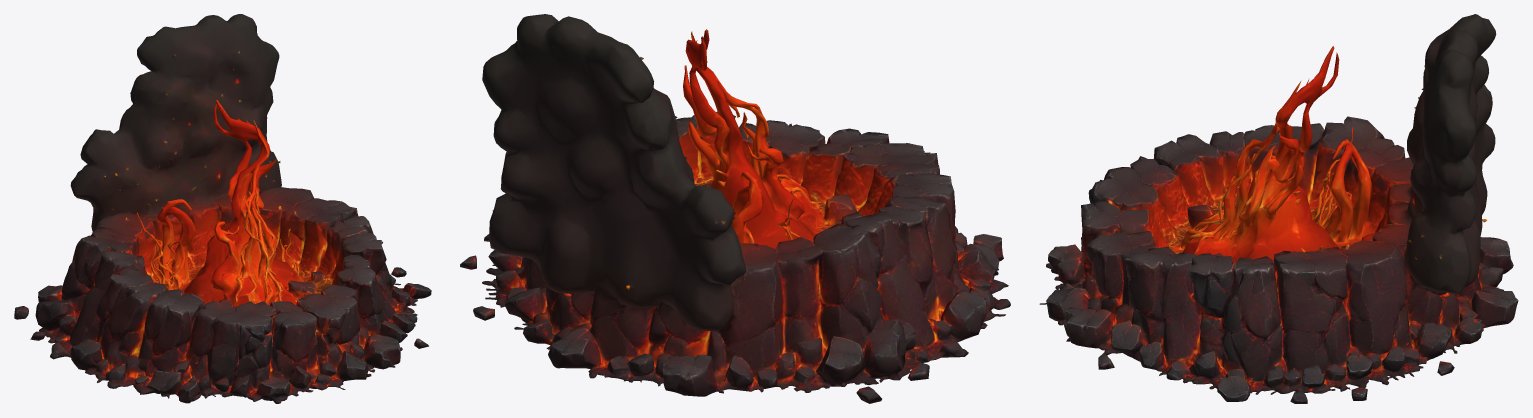
3 renders of one model, left to right at view 1: azimuth 30°, elevation 25°; view 2: azimuth 150°, elevation 25°; view 3: azimuth 270°, elevation 25°, orthographic. The views are drawn at different scales.
Parts seen in each view (by area): view 1: tripo_node_2ca262ef-e0d6-476b-8f13-4c4fdfd9efba; view 2: tripo_node_2ca262ef-e0d6-476b-8f13-4c4fdfd9efba; view 3: tripo_node_2ca262ef-e0d6-476b-8f13-4c4fdfd9efba.
Part boxes in pixels (left/top/right/bottom): tripo_node_2ca262ef-e0d6-476b-8f13-4c4fdfd9efba: left=14, top=14, right=431, bottom=403; tripo_node_2ca262ef-e0d6-476b-8f13-4c4fdfd9efba: left=460, top=14, right=1010, bottom=403; tripo_node_2ca262ef-e0d6-476b-8f13-4c4fdfd9efba: left=1039, top=14, right=1518, bottom=403.
Bounding box in the file's own units: 1 × 0.6556 × 0.9554.
1 material, 1 textured.
